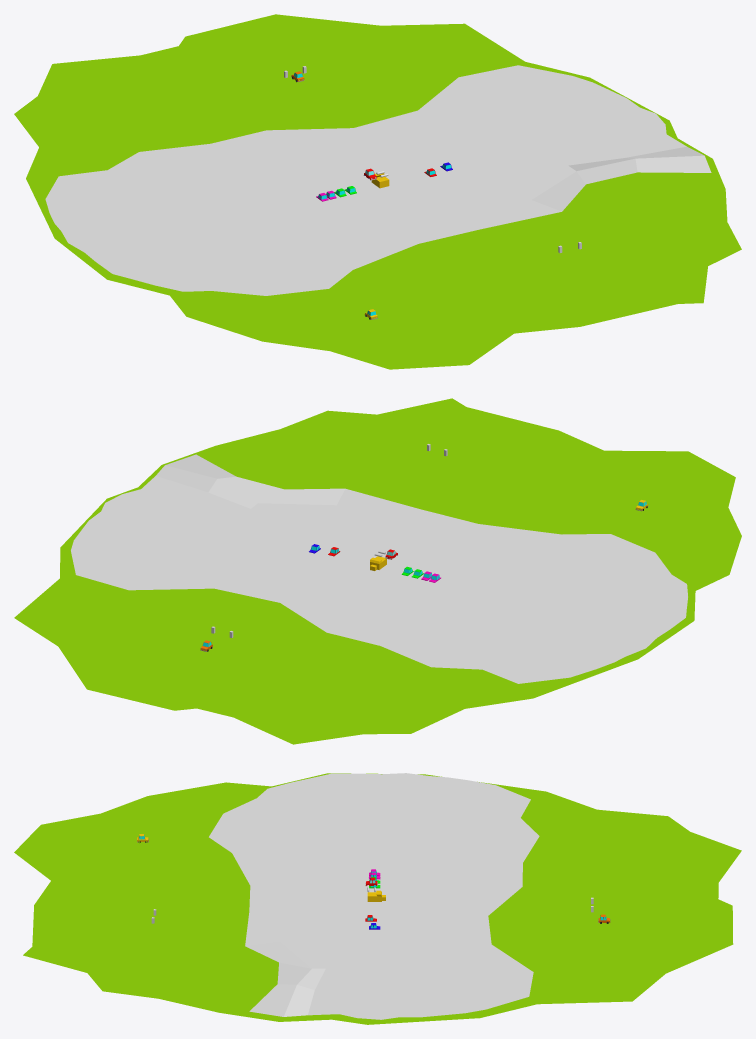
File: Gotthard_3.6.glb
3 renders of one model, top to bottom at view 1: azimuth 30°, elevation 25°; view 2: azimuth 150°, elevation 25°; view 3: azimuth 270°, elevation 25°, orthographic. The views are drawn at different scales.
Visible parts, largest first — view 1: Erde, Berge; view 2: Erde, Berge; view 3: Erde, Berge.
Boxes of the visible parts, x1=… form: Erde: x1=14, y1=14, x2=741, y2=369; Berge: x1=45, y1=65, x2=711, y2=295; Erde: x1=14, y1=398, x2=741, y2=744; Berge: x1=71, y1=454, x2=687, y2=683; Erde: x1=14, y1=773, x2=741, y2=1024; Berge: x1=209, y1=773, x2=539, y2=1019.
Size of the model in its own units: 12.14 by 0.4277 by 14.84.
9 materials, 9 textured.
